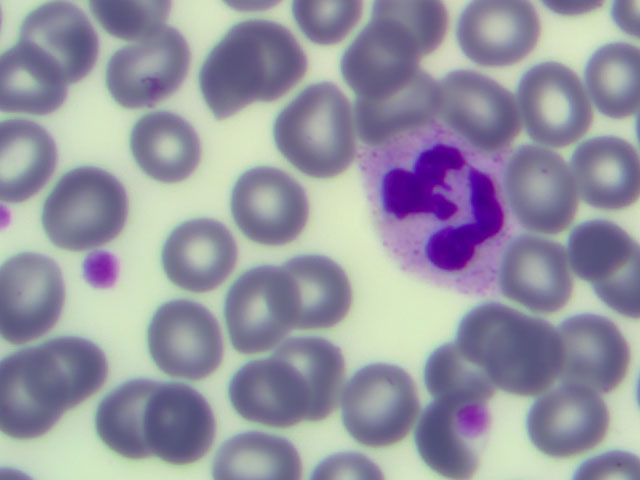Platelets: (88, 255, 120, 291), (461, 404, 486, 444)
RBC: (282, 86, 354, 171), (440, 64, 524, 136), (271, 256, 353, 328), (117, 34, 190, 113), (151, 301, 223, 380), (526, 60, 589, 146), (237, 171, 311, 243), (53, 174, 124, 249), (230, 270, 294, 352), (205, 36, 266, 122), (25, 1, 95, 72), (233, 358, 305, 427), (349, 364, 410, 445), (137, 110, 202, 186), (486, 318, 553, 391), (2, 256, 61, 338), (516, 149, 578, 227), (231, 18, 297, 91), (345, 25, 414, 93), (556, 320, 623, 389), (100, 388, 172, 450), (538, 385, 604, 451), (167, 223, 232, 290), (1, 348, 56, 426), (359, 71, 438, 125), (514, 237, 573, 309), (281, 337, 330, 423), (23, 348, 98, 404), (463, 304, 535, 362), (214, 429, 294, 480), (149, 392, 208, 460), (2, 120, 54, 197), (589, 50, 640, 126), (426, 342, 493, 398), (462, 1, 532, 54), (574, 143, 637, 200), (570, 221, 630, 278), (370, 1, 441, 48), (1, 48, 59, 104), (594, 245, 640, 311), (96, 1, 153, 41), (295, 2, 351, 40), (581, 448, 640, 480), (320, 453, 389, 480), (615, 1, 640, 32)
WBC: (370, 134, 503, 294)
